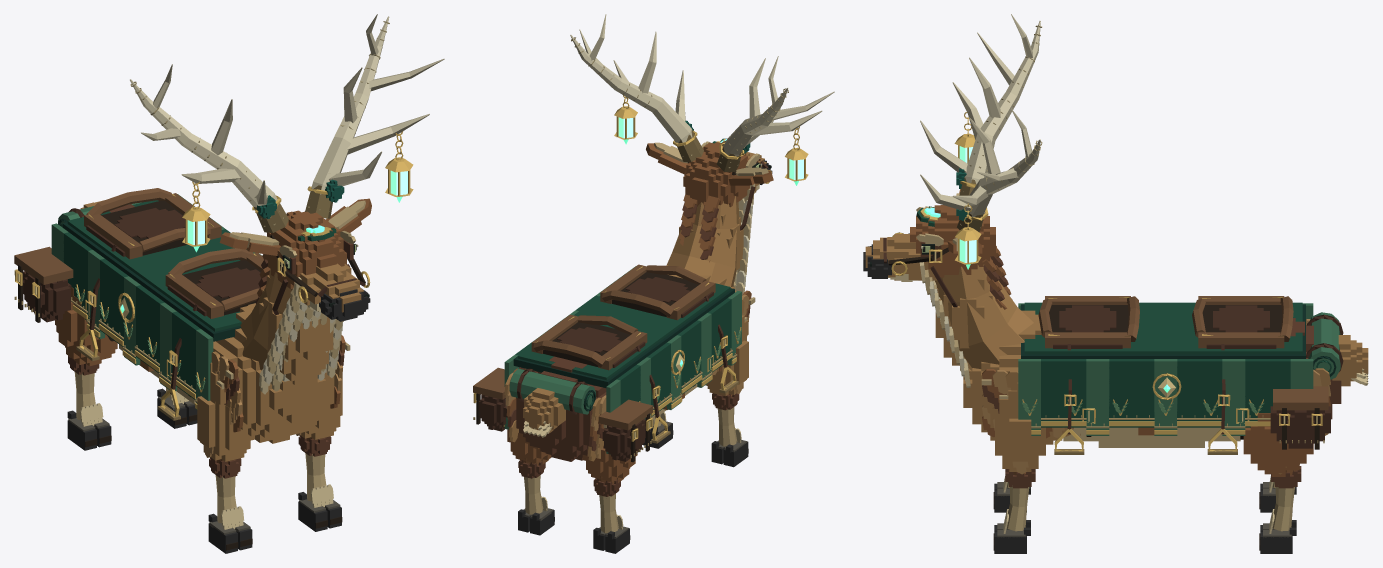
File: wayfarer-stag.glb
The picture shows the model from 3 angles, left to right: view 1: azimuth 30°, elevation 25°; view 2: azimuth 150°, elevation 25°; view 3: azimuth 270°, elevation 25°; orthographic projection. The views are drawn at different scales.
Parts seen in each view (by area): view 1: wayfarer-stag-body-mesh, wayfarer-stag-head-mesh, wayfarer-stag-front-right-knee-mesh, wayfarer-stag-front-left-knee-mesh, wayfarer-stag-rear-right-knee-mesh, wayfarer-stag-front-right-mesh, wayfarer-stag-rear-right-mesh, wayfarer-stag-rear-left-knee-mesh, wayfarer-stag-front-left-mesh; view 2: wayfarer-stag-body-mesh, wayfarer-stag-head-mesh, wayfarer-stag-rear-right-knee-mesh, wayfarer-stag-front-right-knee-mesh, wayfarer-stag-rear-left-knee-mesh, wayfarer-stag-tail-mesh, wayfarer-stag-front-right-mesh, wayfarer-stag-rear-right-mesh, wayfarer-stag-rear-left-mesh; view 3: wayfarer-stag-body-mesh, wayfarer-stag-head-mesh, wayfarer-stag-front-left-mesh, wayfarer-stag-rear-left-mesh, wayfarer-stag-front-left-knee-mesh, wayfarer-stag-rear-left-knee-mesh, wayfarer-stag-tail-mesh.
Part boxes in pixels (left/top/right/bottom): wayfarer-stag-body-mesh: left=14, top=188, right=350, bottom=443; wayfarer-stag-head-mesh: left=130, top=14, right=444, bottom=394; wayfarer-stag-front-right-knee-mesh: left=208, top=457, right=252, bottom=553; wayfarer-stag-front-left-knee-mesh: left=298, top=435, right=342, bottom=531; wayfarer-stag-rear-right-knee-mesh: left=67, top=356, right=111, bottom=450; wayfarer-stag-front-right-mesh: left=197, top=396, right=250, bottom=463; wayfarer-stag-rear-right-mesh: left=55, top=287, right=117, bottom=366; wayfarer-stag-rear-left-knee-mesh: left=157, top=388, right=197, bottom=428; wayfarer-stag-front-left-mesh: left=296, top=375, right=342, bottom=441; wayfarer-stag-body-mesh: left=473, top=264, right=755, bottom=462; wayfarer-stag-head-mesh: left=570, top=14, right=834, bottom=295; wayfarer-stag-rear-right-knee-mesh: left=593, top=478, right=630, bottom=553; wayfarer-stag-front-right-knee-mesh: left=711, top=393, right=748, bottom=467; wayfarer-stag-rear-left-knee-mesh: left=518, top=459, right=554, bottom=535; wayfarer-stag-tail-mesh: left=523, top=388, right=565, bottom=437; wayfarer-stag-front-right-mesh: left=705, top=336, right=748, bottom=396; wayfarer-stag-rear-right-mesh: left=582, top=448, right=637, bottom=484; wayfarer-stag-rear-left-mesh: left=507, top=429, right=551, bottom=465; wayfarer-stag-body-mesh: left=963, top=296, right=1343, bottom=454; wayfarer-stag-head-mesh: left=863, top=14, right=1042, bottom=387; wayfarer-stag-front-left-mesh: left=995, top=415, right=1045, bottom=475; wayfarer-stag-rear-left-mesh: left=1243, top=413, right=1313, bottom=476; wayfarer-stag-front-left-knee-mesh: left=993, top=469, right=1035, bottom=553; wayfarer-stag-rear-left-knee-mesh: left=1259, top=466, right=1301, bottom=553; wayfarer-stag-tail-mesh: left=1332, top=335, right=1368, bottom=386.
Bounding box in the file's own units: 2.85 × 4.42 × 4.34.
